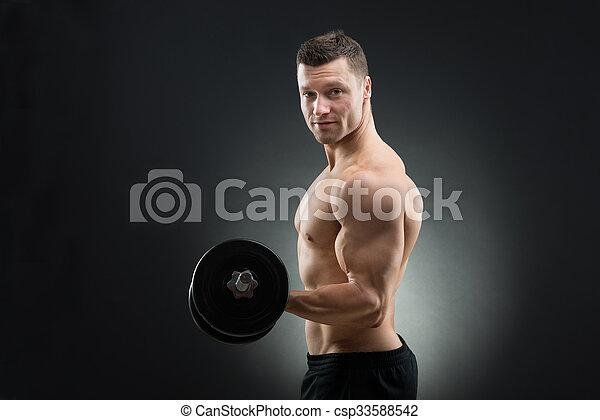Barbell: (240, 270, 255, 288)
